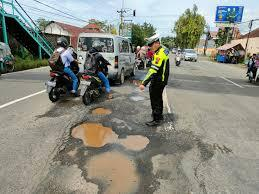Pothole: (56, 148, 144, 193), (69, 122, 119, 147), (118, 132, 149, 150), (87, 107, 115, 116), (128, 95, 149, 102), (128, 79, 142, 84)
